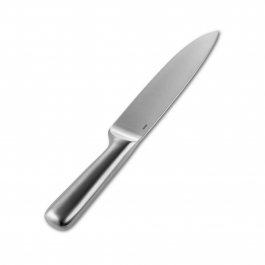knife: (44, 30, 222, 232)
